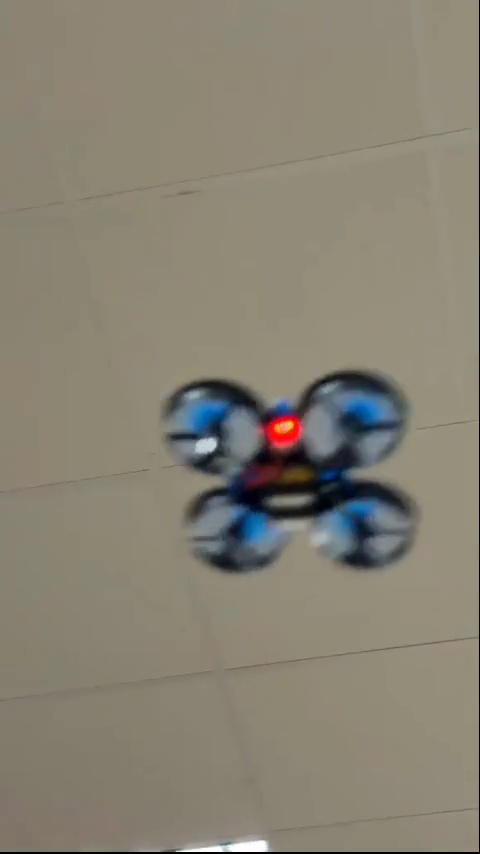drone: (161, 379, 421, 577)
